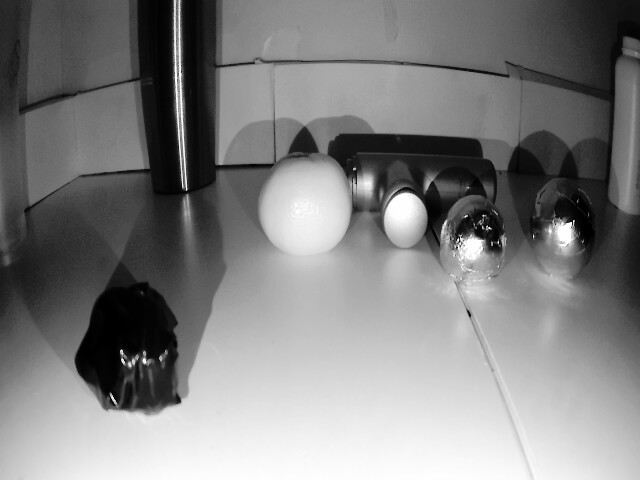black: (67, 275, 184, 415)
silver: (436, 197, 509, 292), (533, 180, 592, 279)
